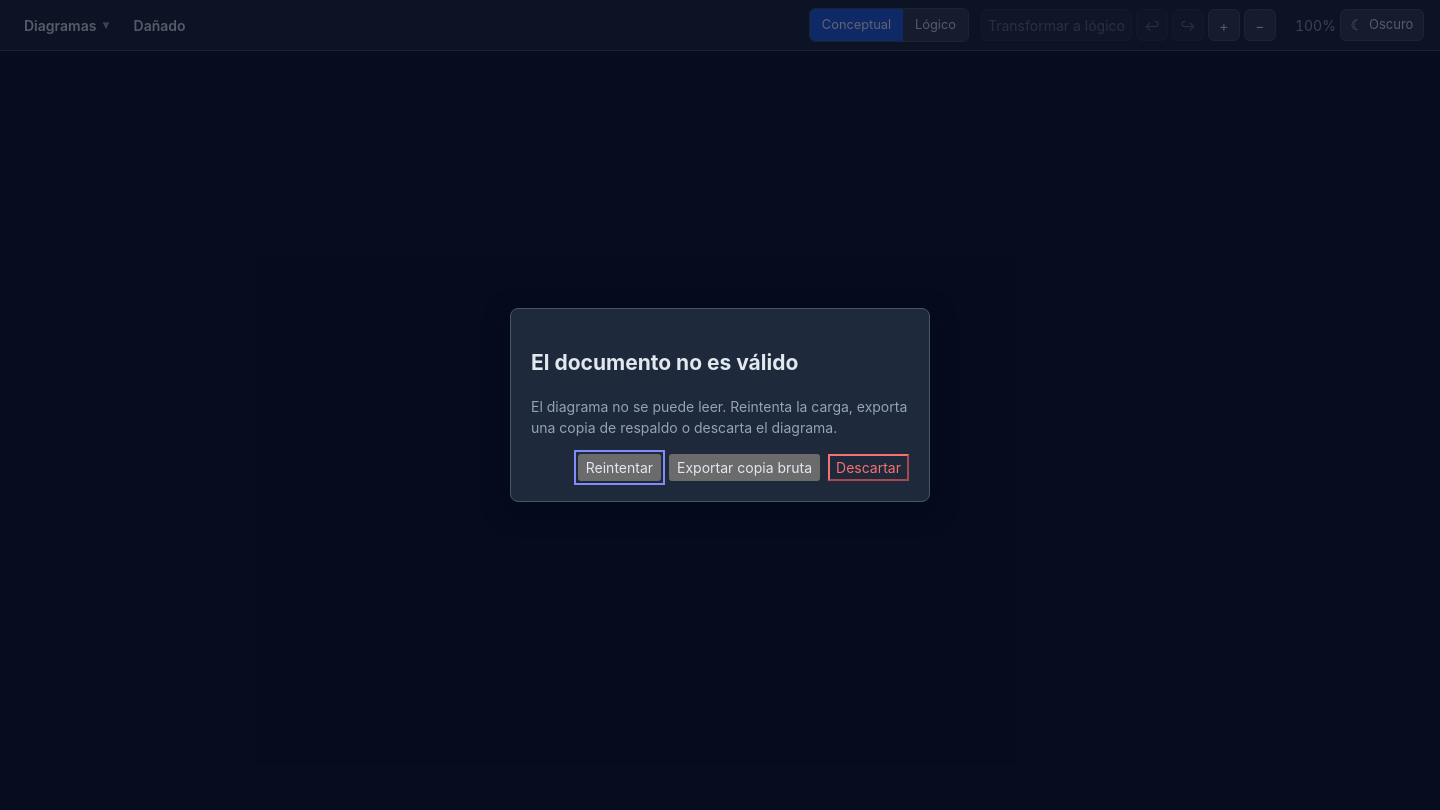
EditorPage › Reintentar vuelve a cargar tras un documento inválido (P12/21)
The width and height of the screenshot is (1440, 810).
Check: the heading "El documento no es válido" is shown, box [531,350,798,375]
Click the button "Reintentar". click: (619, 467)
box: [578,454,661,481]
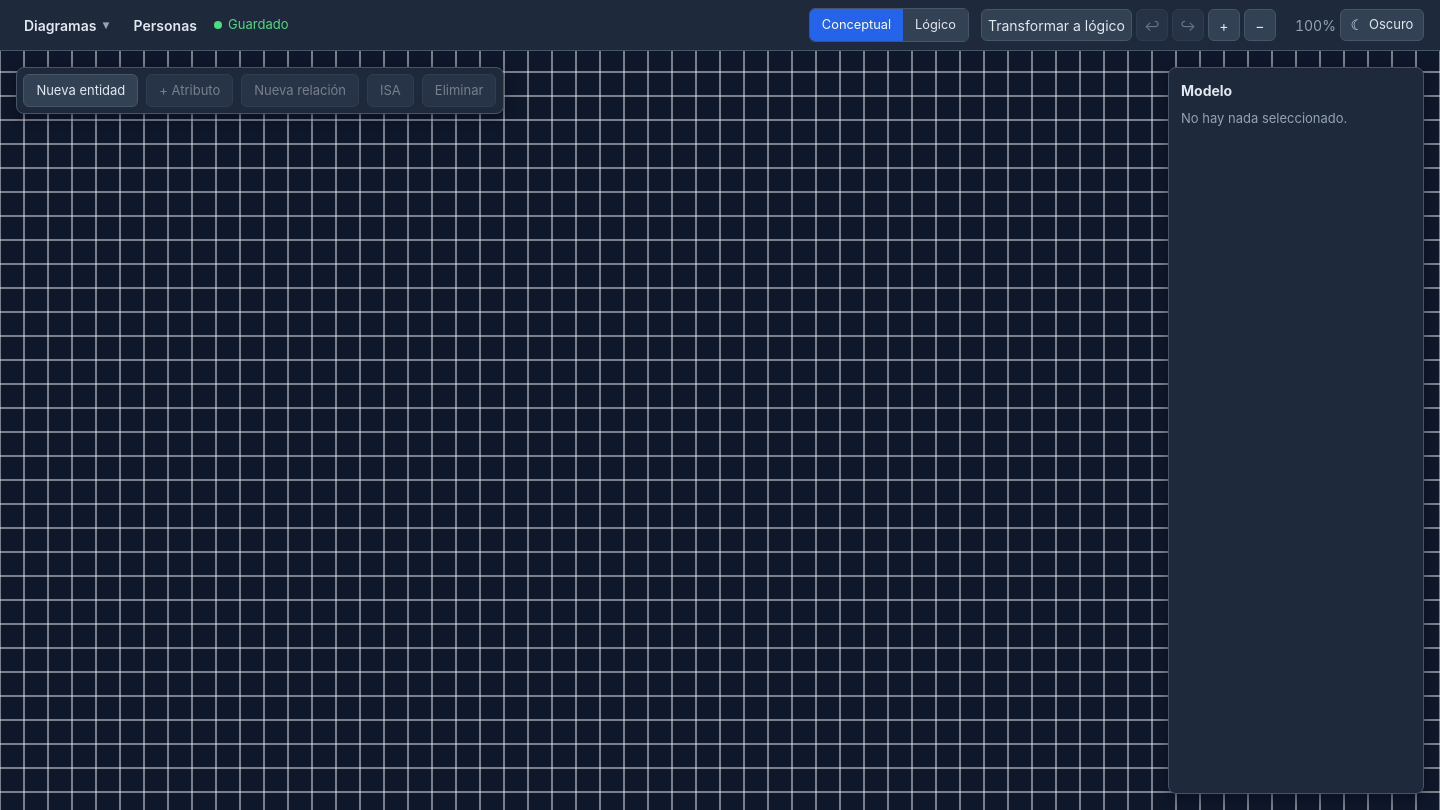
Check: the heading "Personas" is shown, box [134,16,197,34]
